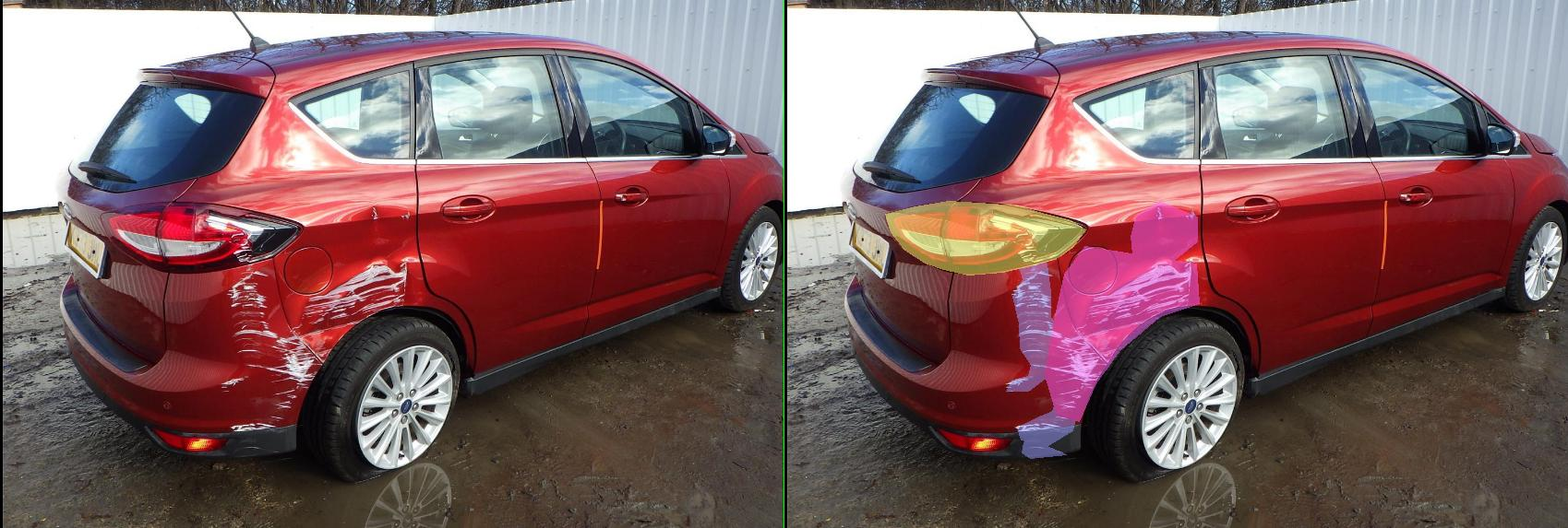Cracked: (201, 201, 602, 275)
Dent: (521, 246, 829, 421), (693, 201, 826, 267)
Scratch: (443, 227, 820, 446), (475, 439, 563, 458), (735, 203, 765, 222), (805, 210, 820, 219)
